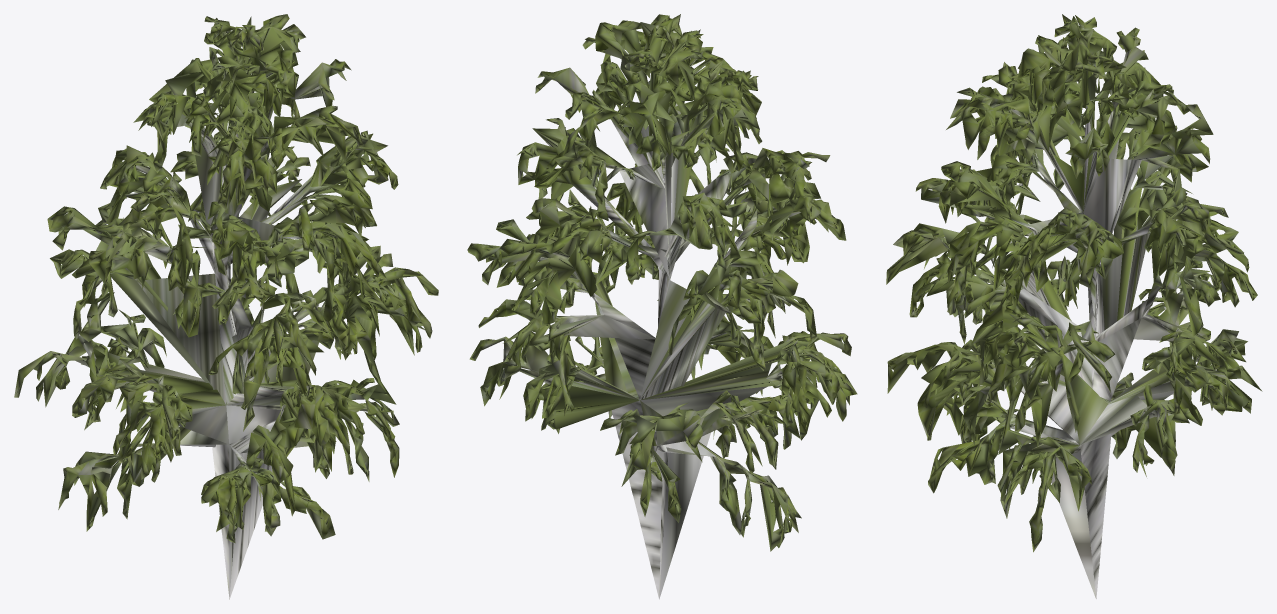
Rendered from birch.glb.
The picture shows the model from 3 angles, left to right: view 1: azimuth 30°, elevation 25°; view 2: azimuth 150°, elevation 25°; view 3: azimuth 270°, elevation 25°; orthographic projection.
Visible parts, largest first — view 1: birch; view 2: birch; view 3: birch.
Boxes of the visible parts, box(x1,y1,x2,y2) form: birch: box(14, 14, 438, 599); birch: box(467, 14, 857, 599); birch: box(886, 14, 1262, 598).
Bounding box in the file's own units: 0.617 × 1 × 0.5837.
Materials: 1 (1 with a texture image).
